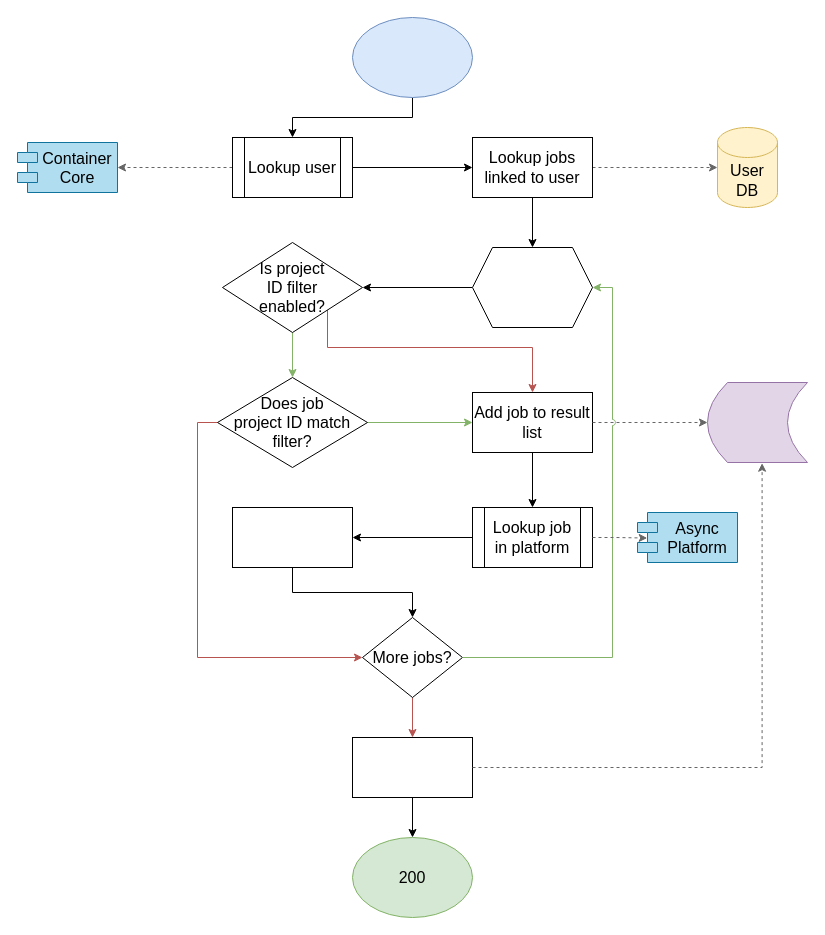
This 825x935 diagram has some shape labels left out. The centre of each missing label's shape, as x and y in pixels:
For each job: the point at 532,287
Record job status: the point at 292,537
Result job list: the point at 757,422
Results to JSON: the point at 412,767
Start: the point at 412,57
